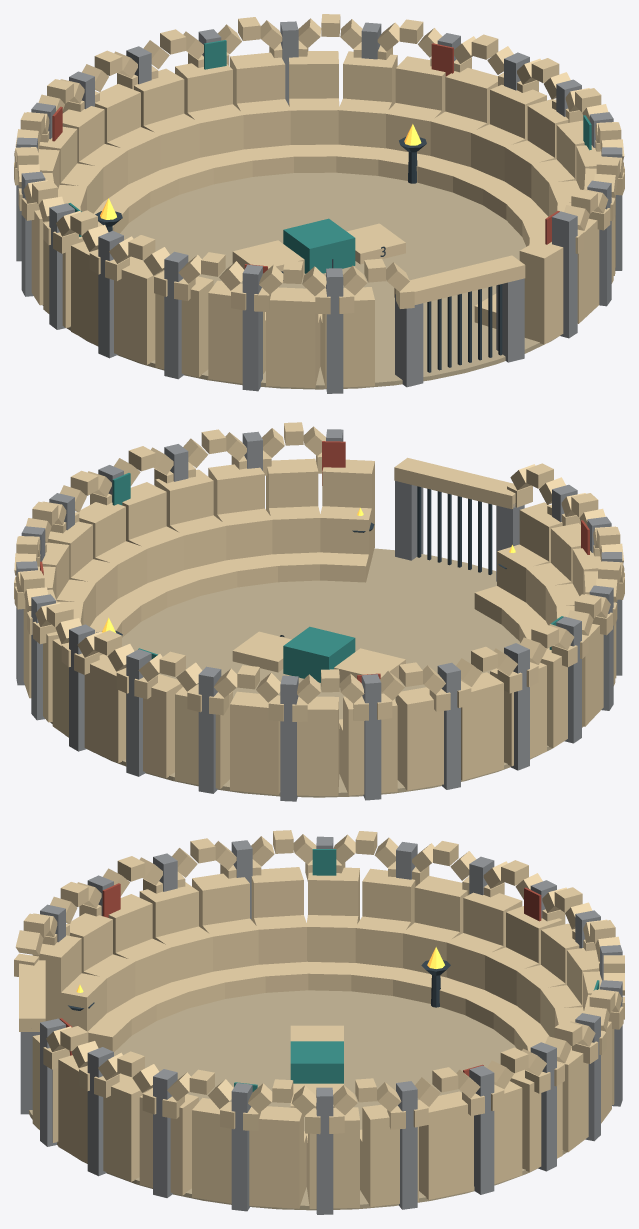
File: colosseum.glb
The picture shows the model from 3 angles, top to bottom: view 1: azimuth 30°, elevation 25°; view 2: azimuth 150°, elevation 25°; view 3: azimuth 270°, elevation 25°; orthographic projection.
Parts seen in each view (by area): view 1: sand_floor, stand_2_26, stand_2_0, stand_2_23, stand_2_24, stand_2_27, stand_2_25, entry_lintel, podium_1, stand_2_12, stand_2_22, stand_2_10 (+73 smaller); view 2: sand_floor, stand_2_15, stand_2_18, stand_2_19, stand_2_16, stand_2_12, stand_2_17, stand_2_14, entry_lintel, stand_2_13, podium_1, stand_2_1 (+64 smaller); view 3: sand_floor, stand_2_5, stand_2_8, stand_2_4, stand_2_7, stand_2_2, stand_2_3, stand_2_6, stand_2_1, stand_2_9, stand_2_22, stand_2_23 (+74 smaller).
Part boxes in pixels (box(x1,y1,x2,y2)): sand_floor: box(42, 172, 558, 389); stand_2_26: box(266, 287, 318, 388); stand_2_0: box(519, 236, 563, 344); stand_2_23: box(114, 256, 164, 364); stand_2_24: box(155, 276, 213, 377); stand_2_27: box(322, 287, 374, 388); stand_2_25: box(208, 280, 264, 383); entry_lintel: box(394, 255, 525, 304); podium_1: box(283, 218, 355, 273); stand_2_12: box(230, 52, 285, 106); stand_2_22: box(71, 241, 98, 345); stand_2_10: box(343, 51, 397, 106); sand_floor: box(50, 548, 582, 797); stand_2_15: box(230, 691, 280, 794); stand_2_18: box(395, 687, 443, 790); stand_2_19: box(461, 672, 503, 780); stand_2_16: box(297, 696, 338, 795); stand_2_12: box(84, 654, 126, 763); stand_2_17: box(343, 696, 397, 795); stand_2_14: box(175, 684, 232, 788); entry_lintel: box(394, 457, 515, 509); stand_2_13: box(126, 674, 182, 778); podium_1: box(283, 626, 355, 682); stand_2_1: box(266, 458, 318, 513); sand_floor: box(29, 990, 567, 1210); stand_2_5: box(249, 1106, 303, 1208); stand_2_8: box(419, 1091, 473, 1199); stand_2_4: box(192, 1097, 231, 1203); stand_2_7: box(362, 1105, 418, 1206); stand_2_2: box(103, 1073, 152, 1181); stand_2_3: box(139, 1088, 198, 1195); stand_2_6: box(308, 1107, 359, 1208); stand_2_1: box(58, 1055, 87, 1163); stand_2_9: box(494, 1081, 522, 1184); stand_2_22: box(251, 867, 303, 922); stand_2_23: box(192, 873, 249, 928).
Bounding box in the file's own units: 20.88 × 4.66 × 20.58.
